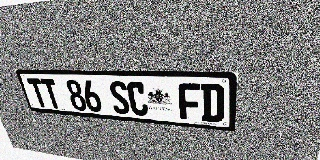6: (80, 80, 103, 112)
8: (65, 79, 88, 111)
C: (126, 81, 149, 116)
D: (201, 83, 225, 123)
F: (178, 83, 201, 121)
S: (108, 81, 131, 115)
T: (40, 79, 63, 109), (27, 78, 49, 108)
